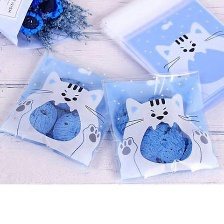snack: (0, 44, 135, 172), (96, 65, 224, 184)
